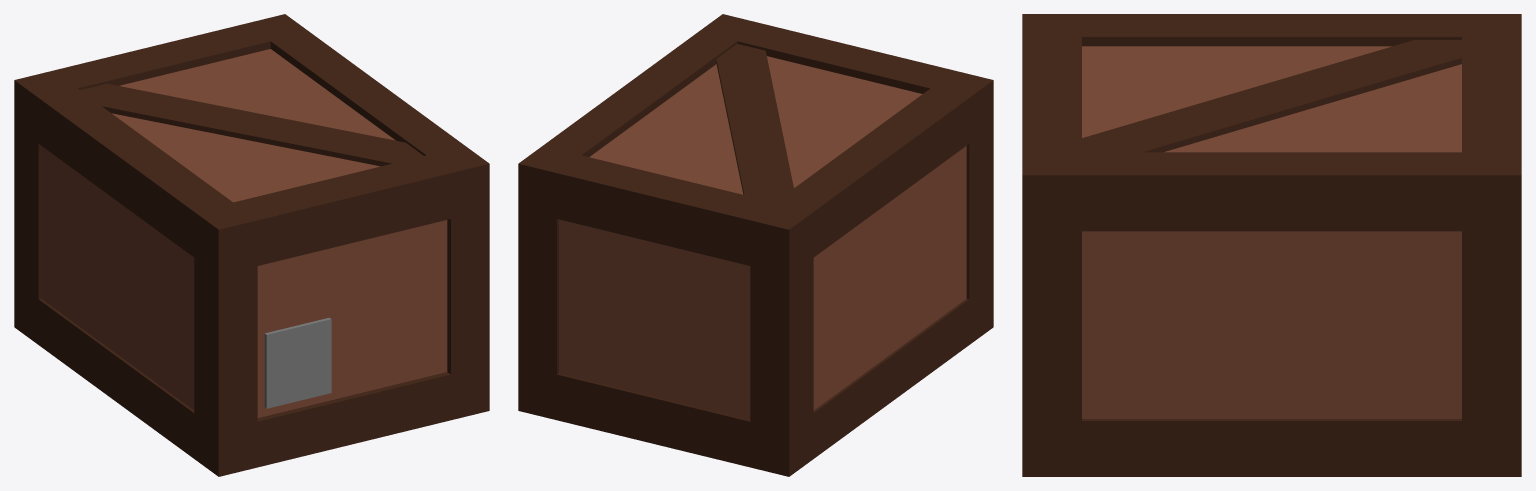
The picture shows the model from 3 angles, left to right: view 1: azimuth 30°, elevation 25°; view 2: azimuth 150°, elevation 25°; view 3: azimuth 270°, elevation 25°; orthographic projection. The views are drawn at different scales.
Parts seen in each view (by area): view 1: Crate_1_mesh, Crate_1_mesh.002, Crate_1_mesh.001; view 2: Crate_1_mesh, Crate_1_mesh.002; view 3: Crate_1_mesh, Crate_1_mesh.002.
Boxes of the visible parts, x1,y1,x2,y2 form: Crate_1_mesh: (14, 14, 489, 476); Crate_1_mesh.002: (41, 49, 447, 417); Crate_1_mesh.001: (264, 317, 331, 408); Crate_1_mesh: (518, 14, 993, 476); Crate_1_mesh.002: (559, 56, 966, 419); Crate_1_mesh: (1022, 14, 1521, 476); Crate_1_mesh.002: (1082, 46, 1461, 418).
Bounding box in the file's own units: 58.82 × 51.28 × 76.91.
